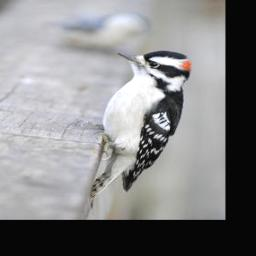Woodpecker: (86, 42, 202, 209)
